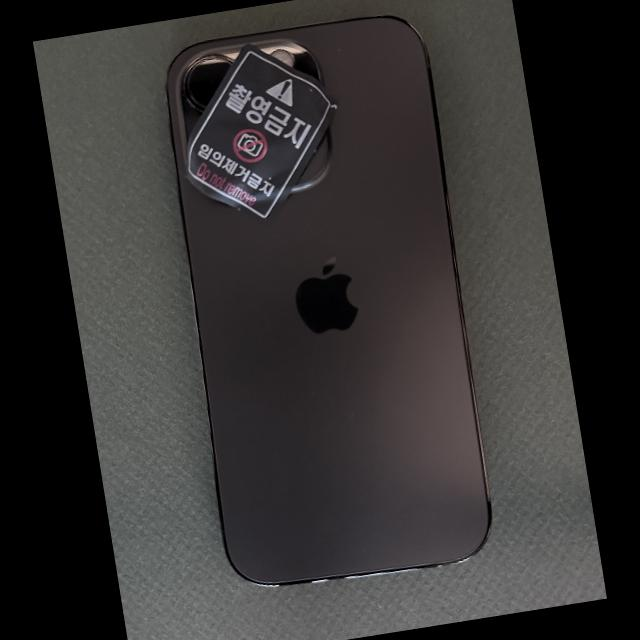lens: (182, 53, 233, 115)
phone: (168, 17, 490, 584)
sticker: (185, 42, 339, 228)
